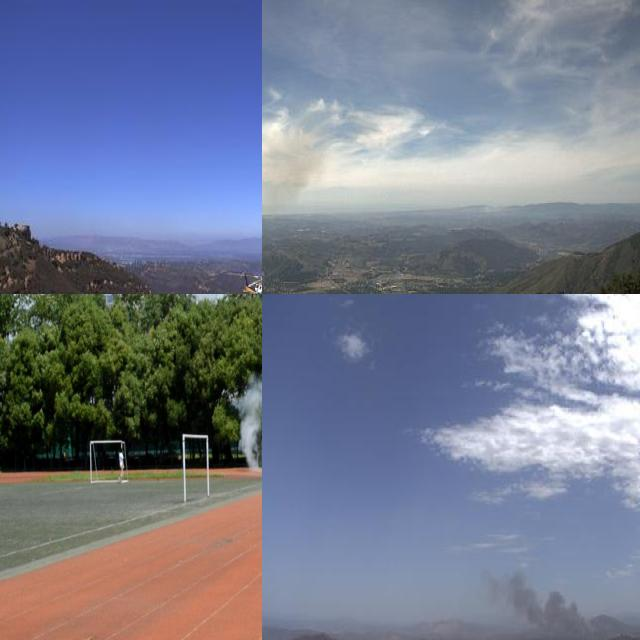smoke: (476, 556, 618, 640), (262, 124, 318, 294), (230, 372, 262, 476)
